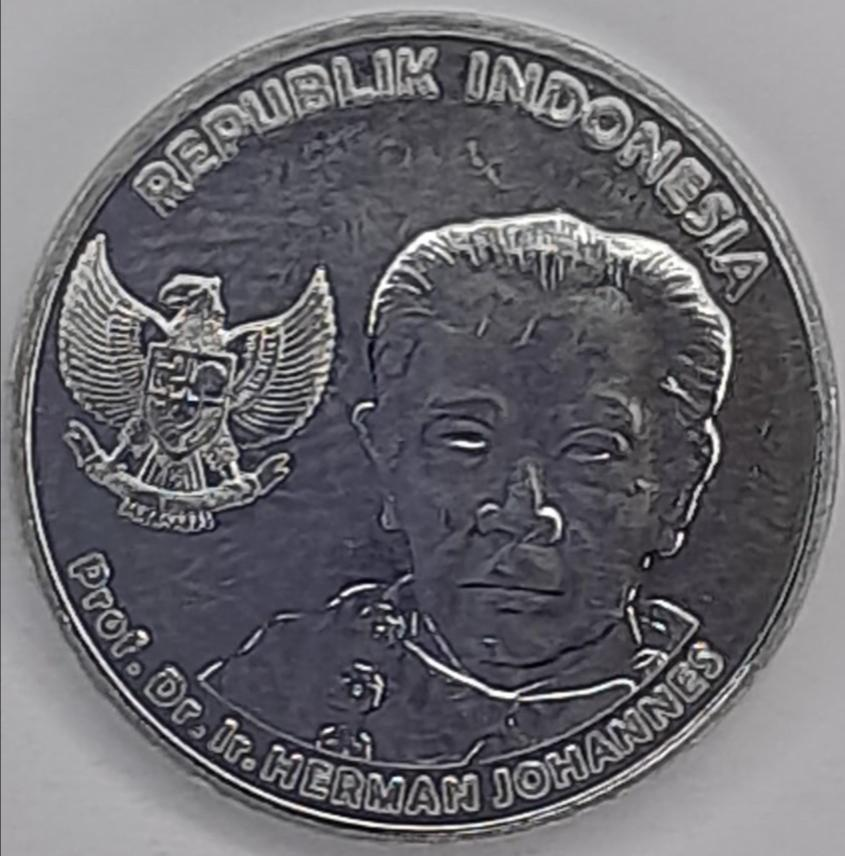coin_100_e2016: (4, 3, 843, 845)
